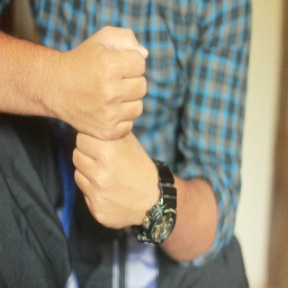G: (63, 22, 159, 227)
